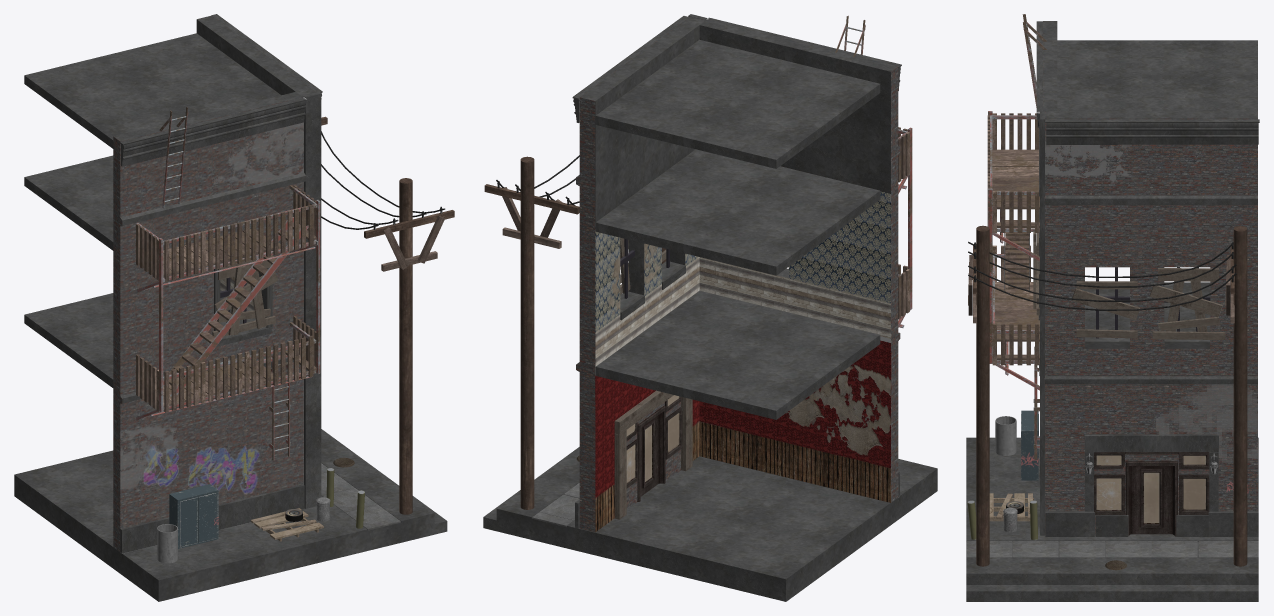
3 views of the same model, side by side, from view 1: azimuth 30°, elevation 25°; view 2: azimuth 150°, elevation 25°; view 3: azimuth 270°, elevation 25° (orthographic). The views are drawn at different scales.
Parts seen in each view (by area): view 1: polySurface4, pCube1, pCube376, pCube181, pCube375, pCube10, pCylinder57, pCube7, polySurface3, pCube307, pCube15, pCube12 (+9 smaller); view 2: polySurface4, pCube1, polySurface3, pCube376, pCube181, pCube375, pCylinder29, Door, pCube185, pCube183, pCube304, pCube11 (+4 smaller); view 3: polySurface3, pCube1, pCube376, Door, pCube11, pCylinder29, pCylinder57, pCube4, pCube181, polySurface4, pCube5, pCube15 (+29 smaller).
Part boxes in pixels (x1,y1,x2,y2): polySurface4: (113,92,306,552); pCube1: (14,429,447,601); pCube376: (24,33,280,148); pCube181: (24,290,255,387); pCube375: (24,155,113,250); pCube10: (119,97,307,166); pCylinder57: (399,178,412,514); pCube7: (120,484,304,553); polySurface3: (196,15,316,310); pCube307: (304,288,321,508); pCube15: (169,484,218,548); pCube12: (303,92,321,292); polySurface4: (699,19,900,502); pCube1: (483,447,937,601); polySurface3: (576,16,705,532); pCube376: (595,39,880,168); pCube181: (595,290,880,419); pCube375: (595,149,880,275); pCylinder29: (520,156,534,509); Door: (626,395,682,509); pCube185: (614,430,626,519); pCube183: (614,390,673,434); pCube304: (681,397,692,471); pCube11: (572,16,688,122); polySurface3: (1044,111,1257,534); pCube1: (966,437,1258,601); pCube376: (1057,40,1257,111); Door: (1094,452,1209,536); pCube11: (1045,119,1259,144); pCylinder29: (1233,225,1247,566); pCylinder57: (976,225,989,566); pCube4: (1085,434,1218,452); pCube181: (1085,282,1210,331); polySurface4: (1039,21,1057,375); pCube5: (1045,511,1094,536); pCube15: (1021,410,1038,480).
Bounding box in the file's own units: 2.23 × 3.26 × 1.86.
4 materials, 4 textured.
